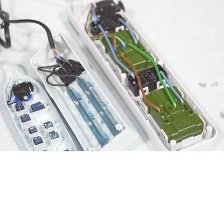three_eye_plug: (66, 0, 221, 156), (27, 24, 141, 155), (1, 72, 87, 167)
